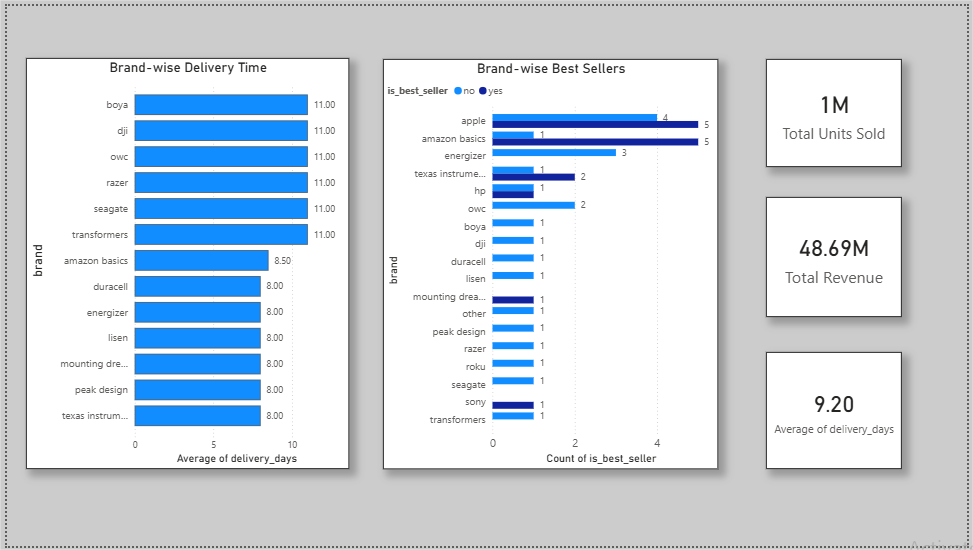

This screenshot's page, from the dashboard's own definition file:
{"tool":"powerbi","page":{"name":"Page 2","canvas":[1280,720],"ordinal":1},"visuals":[{"type":"barChart","title":"Brand-wise Delivery Time","fields":{"Category":["amazon_sales_working.brand"],"Y":["Avg(amazon_sales_working.delivery_days)"]},"box":[25.3,69.3,430.7,548],"z":0},{"type":"clusteredBarChart","title":"Brand-wise Best Sellers","fields":{"Category":["amazon_sales_working.brand"],"Y":["CountNonNull(amazon_sales_working.is_best_seller)"],"Series":["amazon_sales_working.is_best_seller"]},"box":[501.3,70.7,446.7,546.7],"z":1000},{"type":"card","fields":{"Values":["amazon_sales_working.Total Units Sold"]},"box":[1012.3,70.6,181.4,144],"z":2000},{"type":"card","fields":{"Values":["amazon_sales_working.Total Revenue"]},"box":[1012.3,254.9,181.4,159.8],"z":3000},{"type":"card","fields":{"Values":["Avg(amazon_sales_working.delivery_days)"]},"box":[1012.3,460.8,181.4,155.5],"z":4000}]}

Visuals, with their boxes in screenshot pixels (x1, y1, x2, y2), scaled from the page's 1280x720 canvas onto the 973x550 screenshot:
"Brand-wise Delivery Time" barChart: {"x1": 19, "y1": 53, "x2": 347, "y2": 472}
"Brand-wise Best Sellers" clusteredBarChart: {"x1": 381, "y1": 54, "x2": 721, "y2": 472}
card - amazon_sales_working.Total Units Sold: {"x1": 770, "y1": 54, "x2": 907, "y2": 164}
card - amazon_sales_working.Total Revenue: {"x1": 770, "y1": 195, "x2": 907, "y2": 317}
card - Avg(amazon_sales_working.delivery_days): {"x1": 770, "y1": 352, "x2": 907, "y2": 471}
